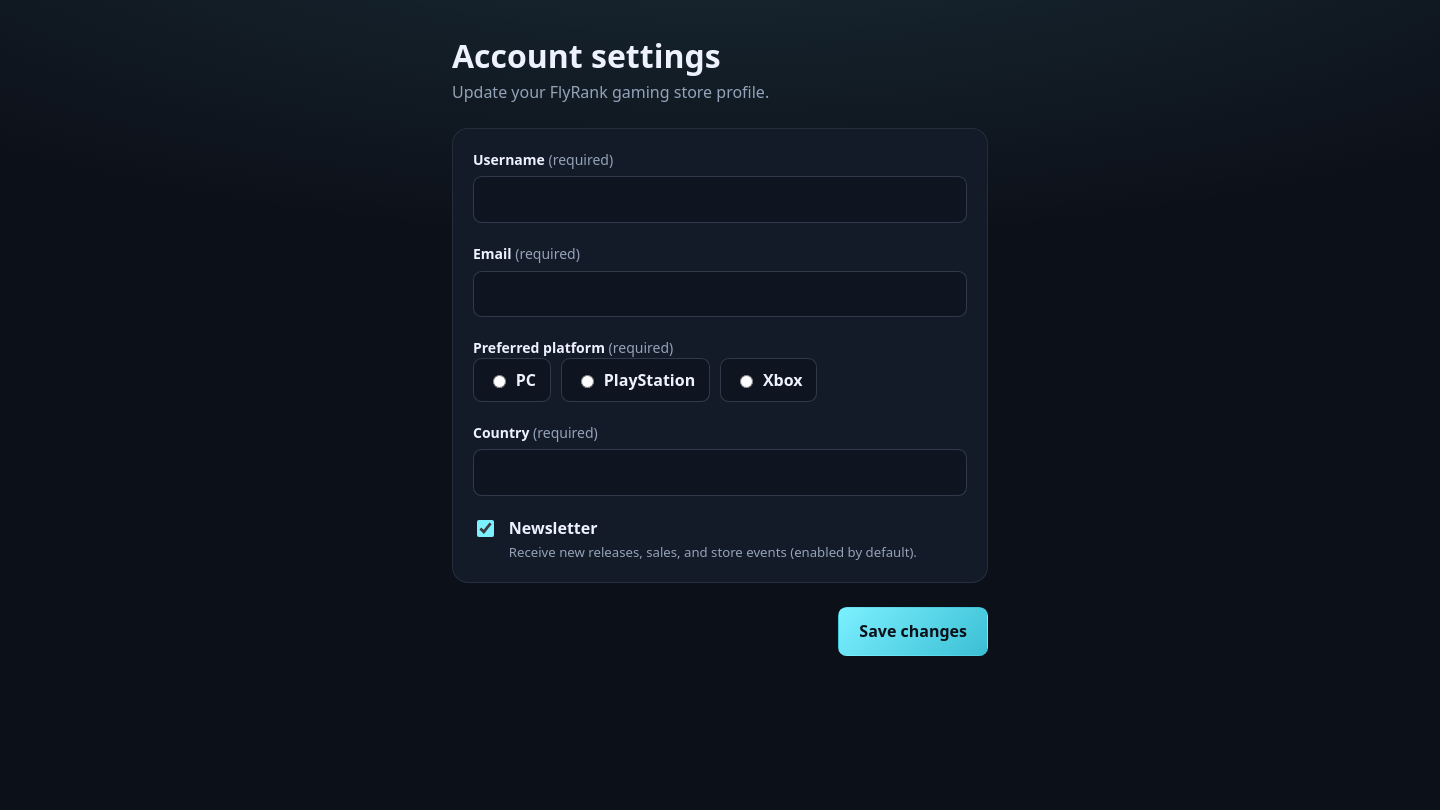
AccountSettingsForm › shows invalid email error
Type "Joey" into the field labelled "Username (required)" at (720, 200), box [473,176,967,223]
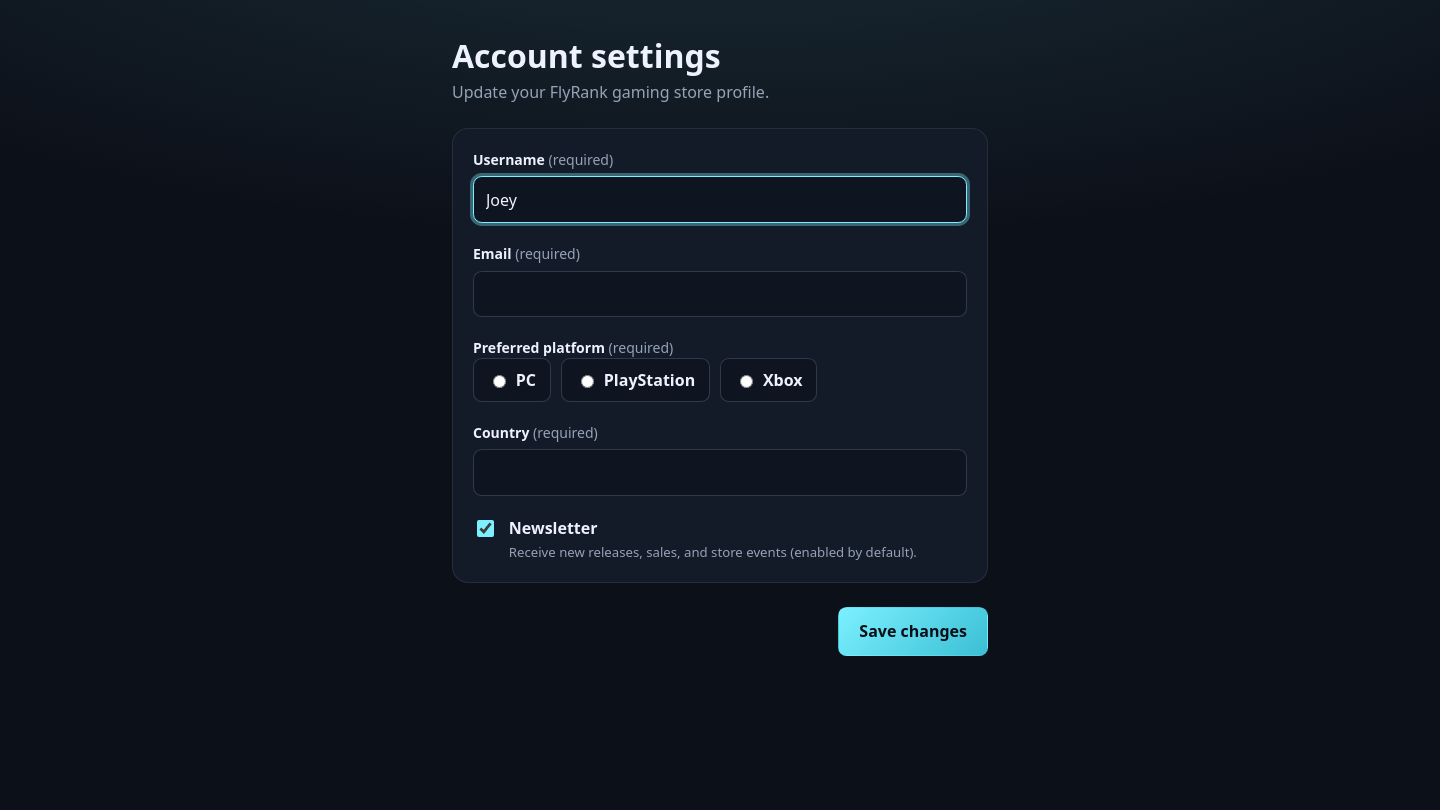
Type "bad-email" into the field labelled "Email (required)" at (720, 294), box [473,271,967,317]
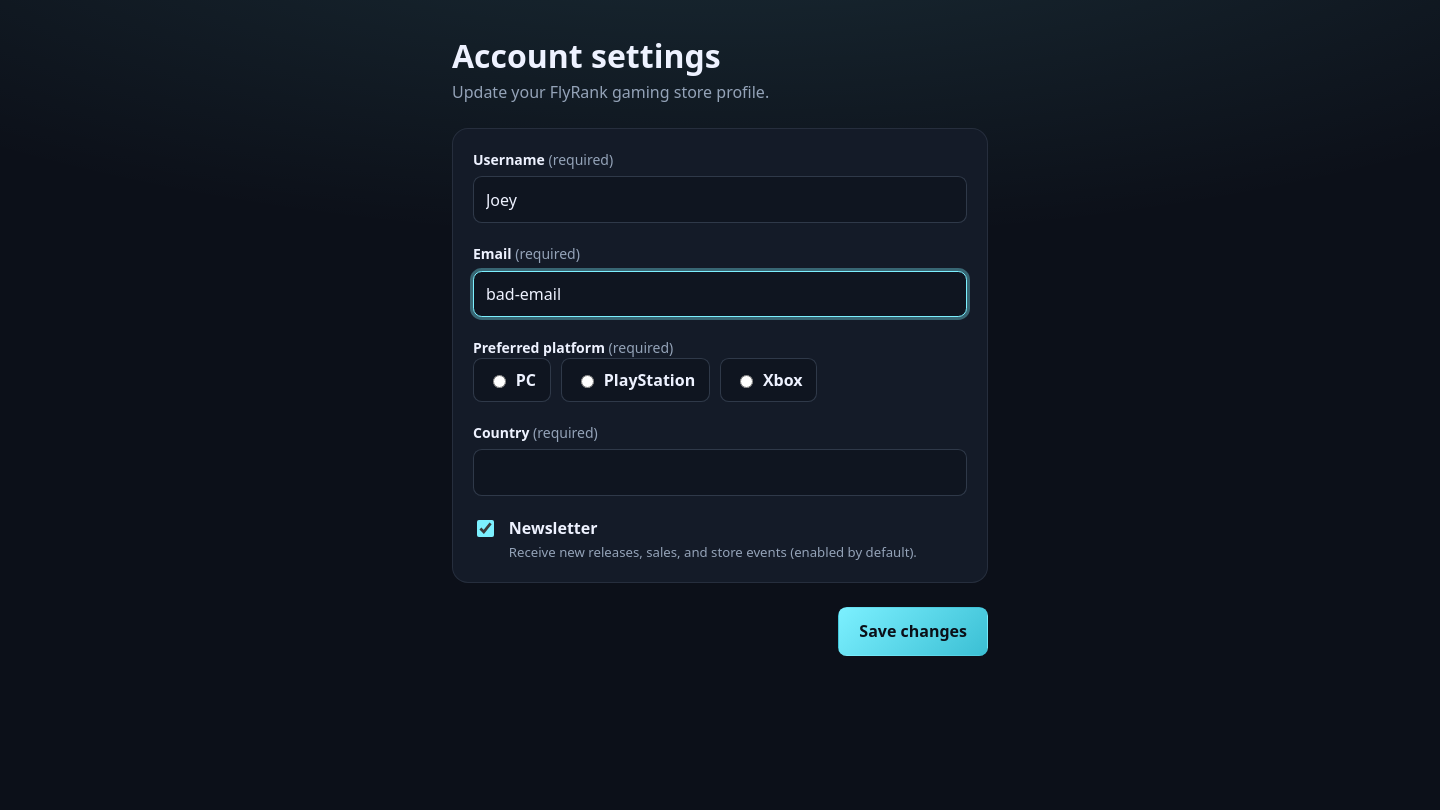
Click the radio button labelled "PlayStation" at (587, 382), box [581,375,594,388]
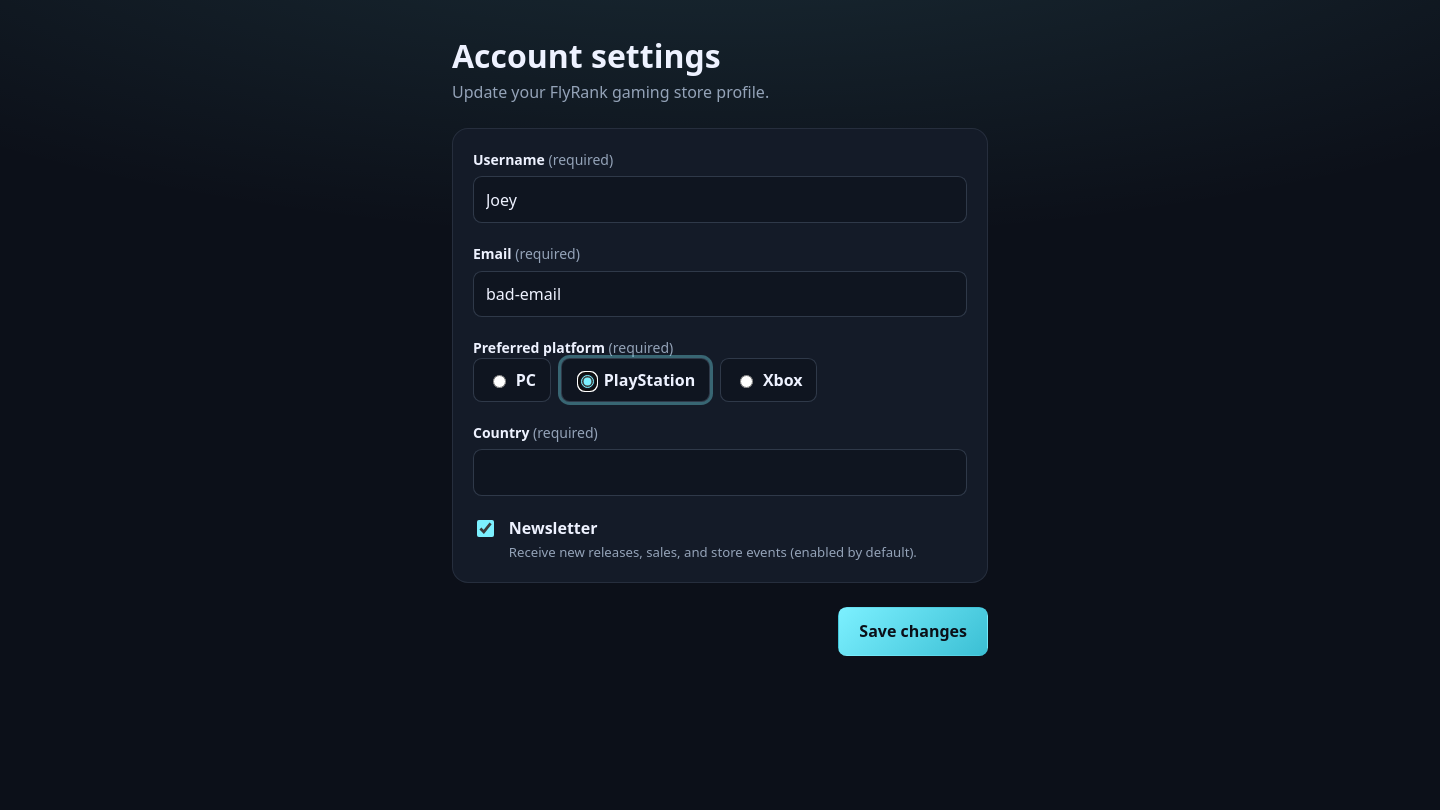
Type "Egypt" into the field labelled "Country (required)" at (720, 473), box [473,449,967,496]
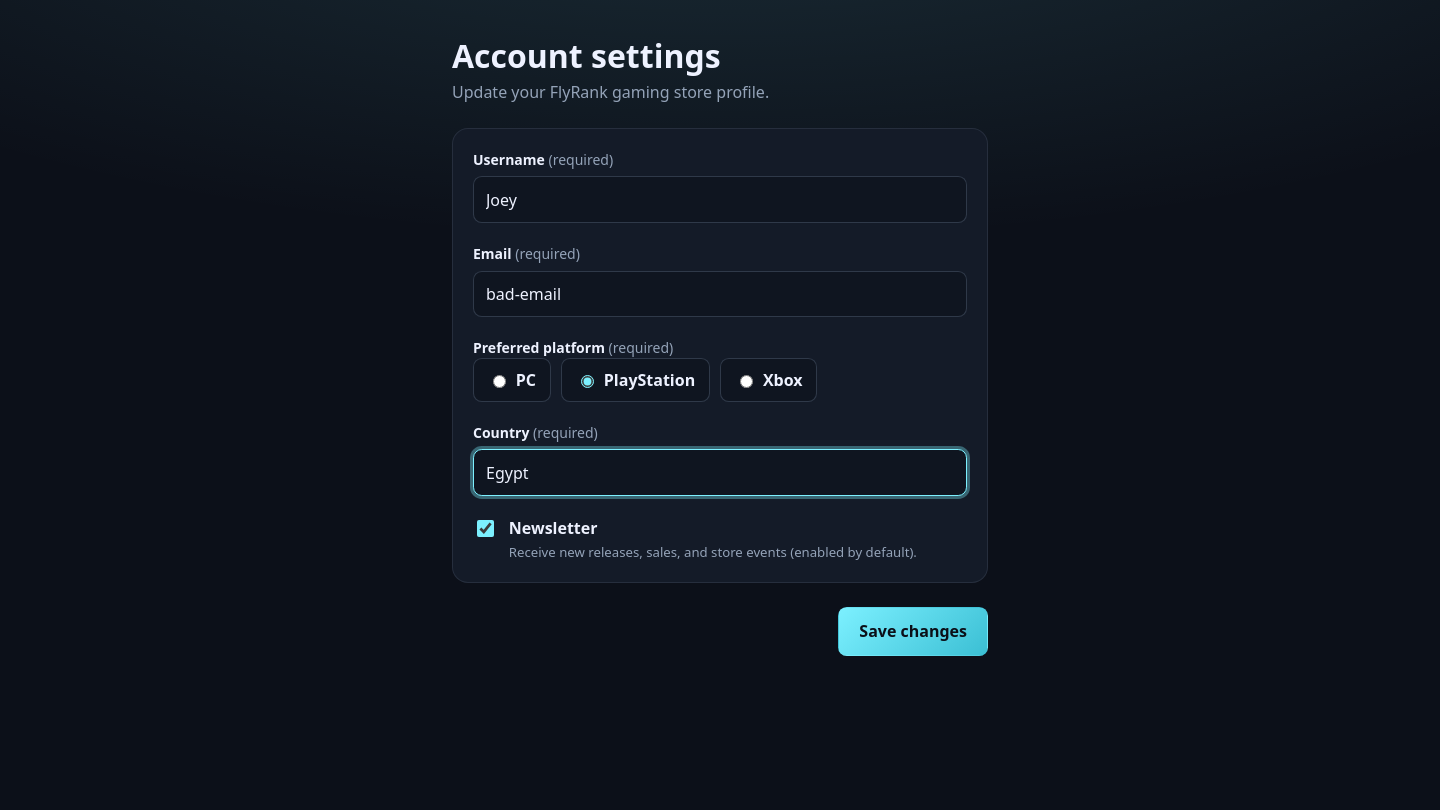
Click the button "Save changes" at (913, 632), box [838,607,988,656]
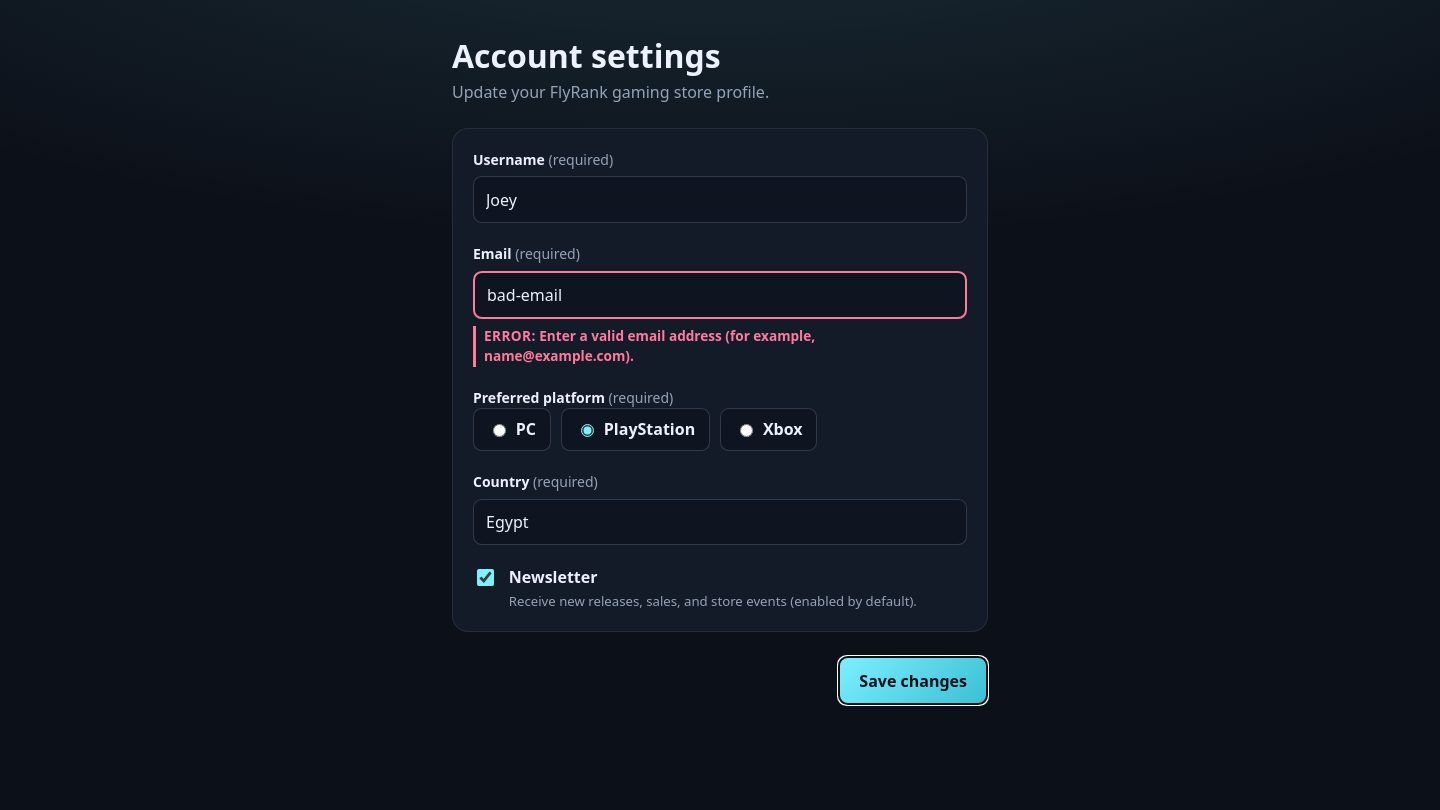
Result: the text "Error: Enter a valid email address (for example, name@example.com)." is shown at [473,326,967,366]
